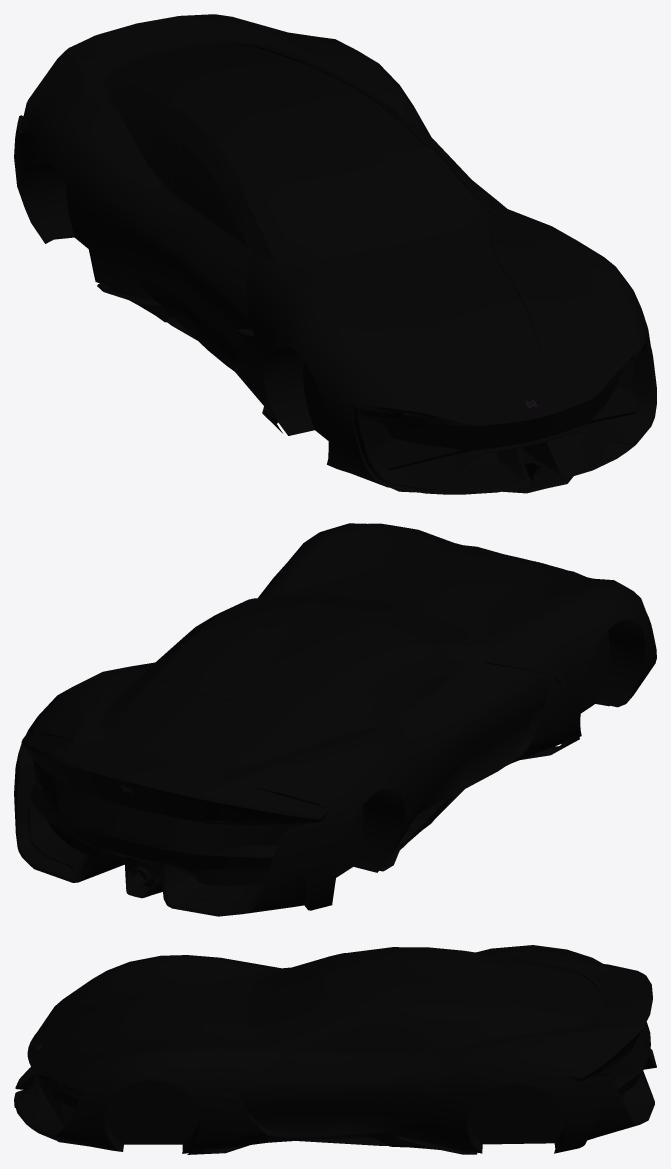
The model's file is Car_Body.glb.
3 renders of one model, top to bottom at view 1: azimuth 30°, elevation 25°; view 2: azimuth 150°, elevation 25°; view 3: azimuth 270°, elevation 25°, orthographic. The views are drawn at different scales.
Parts seen in each view (by area): view 1: SportCoupe.002; view 2: SportCoupe.002; view 3: SportCoupe.002.
Boxes of the visible parts, bbox=[...] form: SportCoupe.002: bbox=[14, 14, 656, 494]; SportCoupe.002: bbox=[14, 523, 656, 916]; SportCoupe.002: bbox=[14, 945, 656, 1154].
Size of what is drawn, in the model's own units: 3.31 by 1.73 by 7.28.
1 material, 1 textured.
